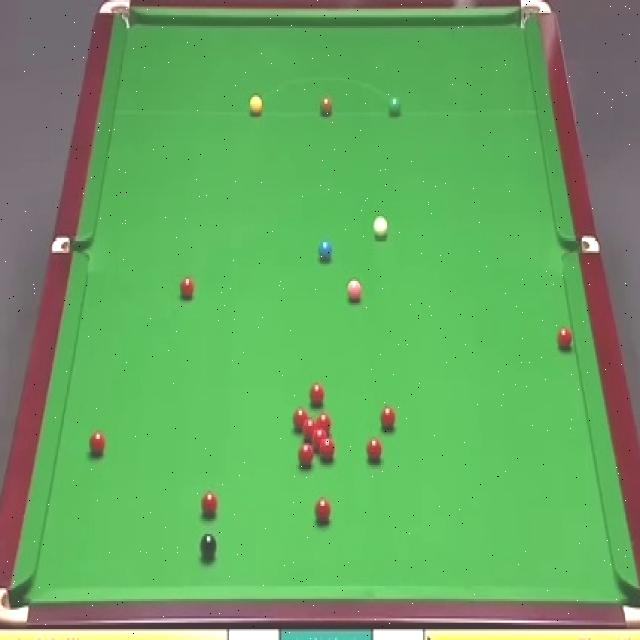black-ball: (200, 534, 218, 563)
blue-ball: (318, 237, 332, 263)
brown-ball: (320, 94, 332, 116)
green-ball: (388, 98, 402, 119)
pink-ball: (347, 278, 362, 302)
red-ball: (365, 436, 384, 466), (378, 404, 397, 433), (556, 324, 574, 352), (314, 496, 331, 525), (201, 491, 219, 517), (90, 428, 106, 457), (309, 382, 324, 409), (298, 442, 313, 469), (292, 407, 307, 432), (320, 437, 335, 462), (180, 276, 194, 298), (318, 413, 332, 435), (302, 418, 316, 439), (313, 428, 326, 448)
white-ball: (370, 212, 390, 245)
yellow-ball: (248, 96, 262, 118)
